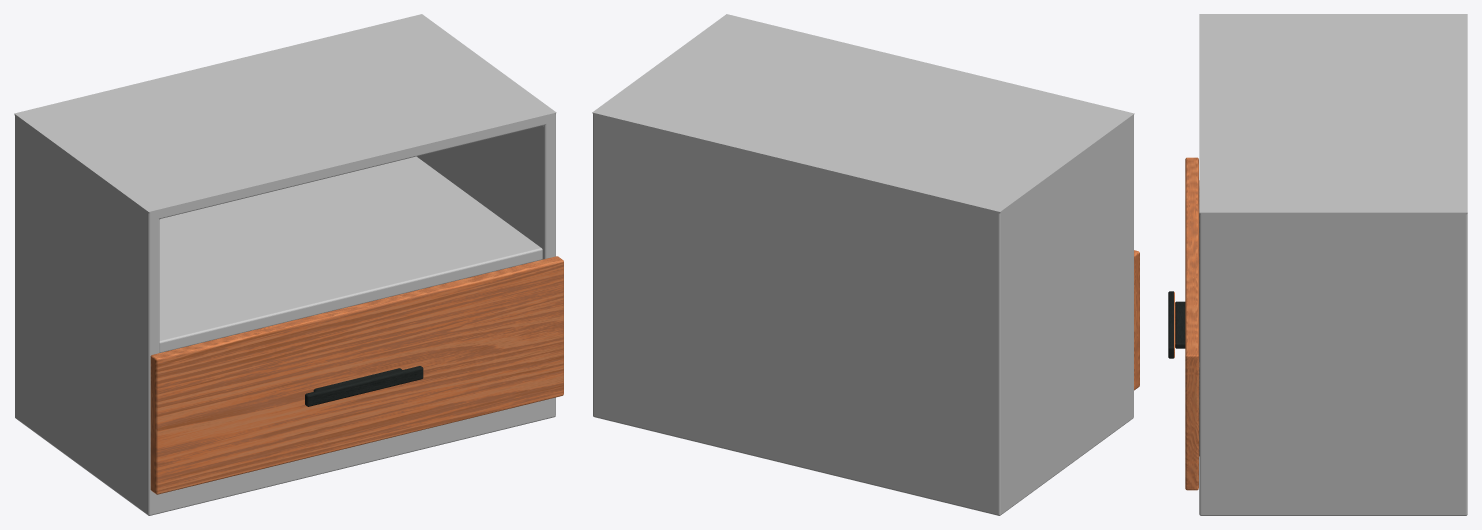
The model's file is comodino.fbx.
The picture shows the model from 3 angles, left to right: view 1: azimuth 30°, elevation 25°; view 2: azimuth 150°, elevation 25°; view 3: azimuth 270°, elevation 25°; orthographic projection.
Visible parts, largest first — view 1: contenitore, cassetto; view 2: contenitore, cassetto; view 3: contenitore, cassetto.
Boxes of the visible parts, left/top/right/bottom form: contenitore: left=14, top=14, right=556, bottom=515; cassetto: left=150, top=256, right=563, bottom=494; contenitore: left=592, top=14, right=1134, bottom=515; cassetto: left=1134, top=250, right=1139, bottom=390; contenitore: left=1199, top=14, right=1467, bottom=515; cassetto: left=1168, top=157, right=1199, bottom=490.
Size of the model in its own units: 70.17 by 50 by 44.63.
